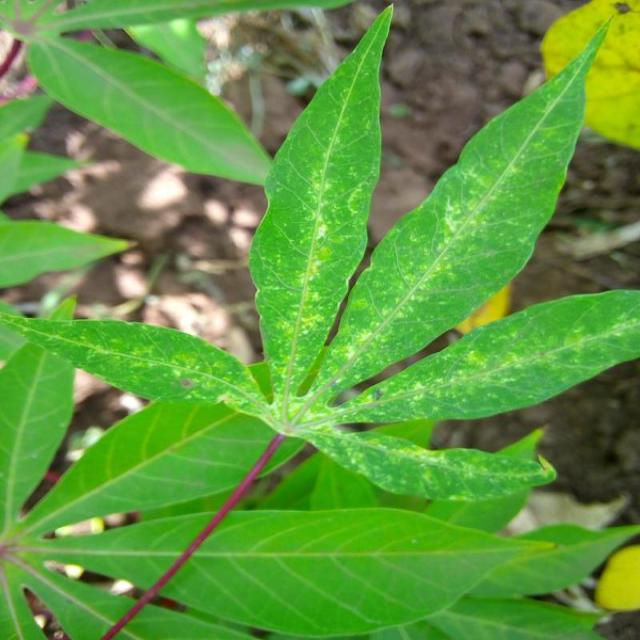cassava leaf: (0, 2, 638, 637), (308, 9, 615, 410), (247, 1, 394, 416)
